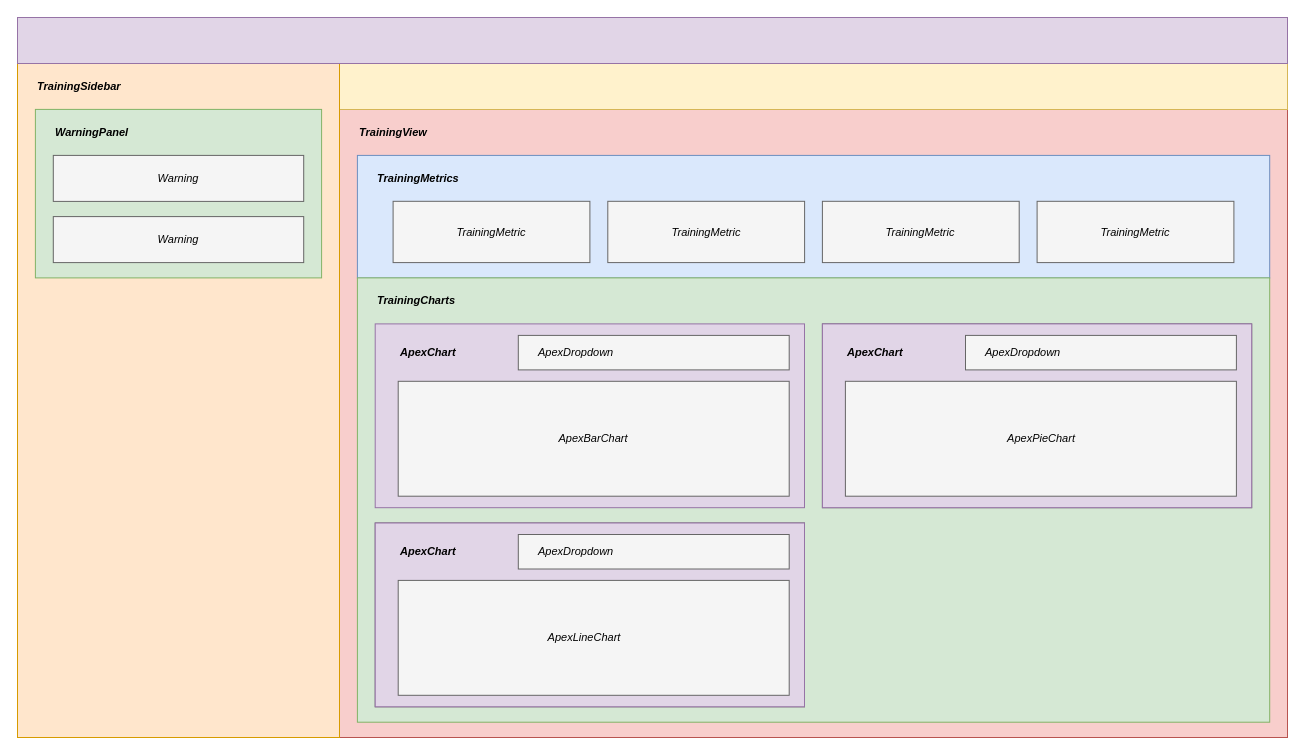
This 1305x755 diagram has some shape labels left out. The centre of each missing label's shape, as x and y in pixels:
"TrainingHeader" belongs at [813,86].
"TrainingTopbar" belongs at [652,40].
